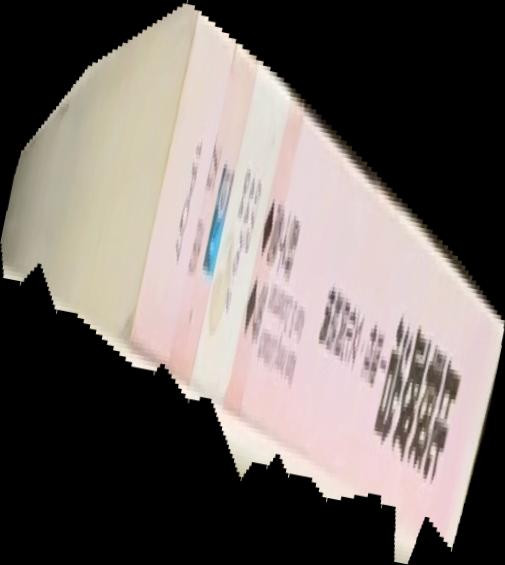flat: (1, 1, 505, 565)
